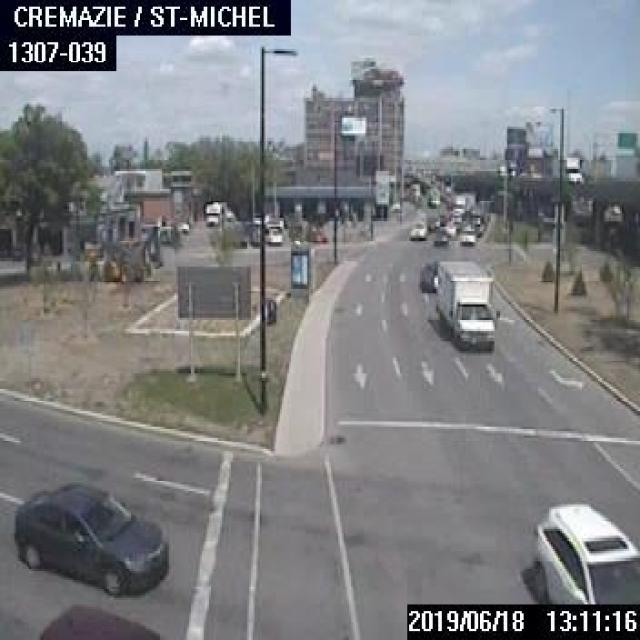vehicle: (11, 478, 167, 593), (527, 500, 638, 600), (434, 258, 496, 347), (550, 155, 580, 180), (202, 199, 225, 228), (451, 190, 476, 213), (420, 260, 436, 292), (408, 219, 427, 238), (265, 224, 283, 244), (458, 225, 477, 243), (433, 227, 448, 244), (175, 219, 187, 233), (427, 194, 438, 206)
